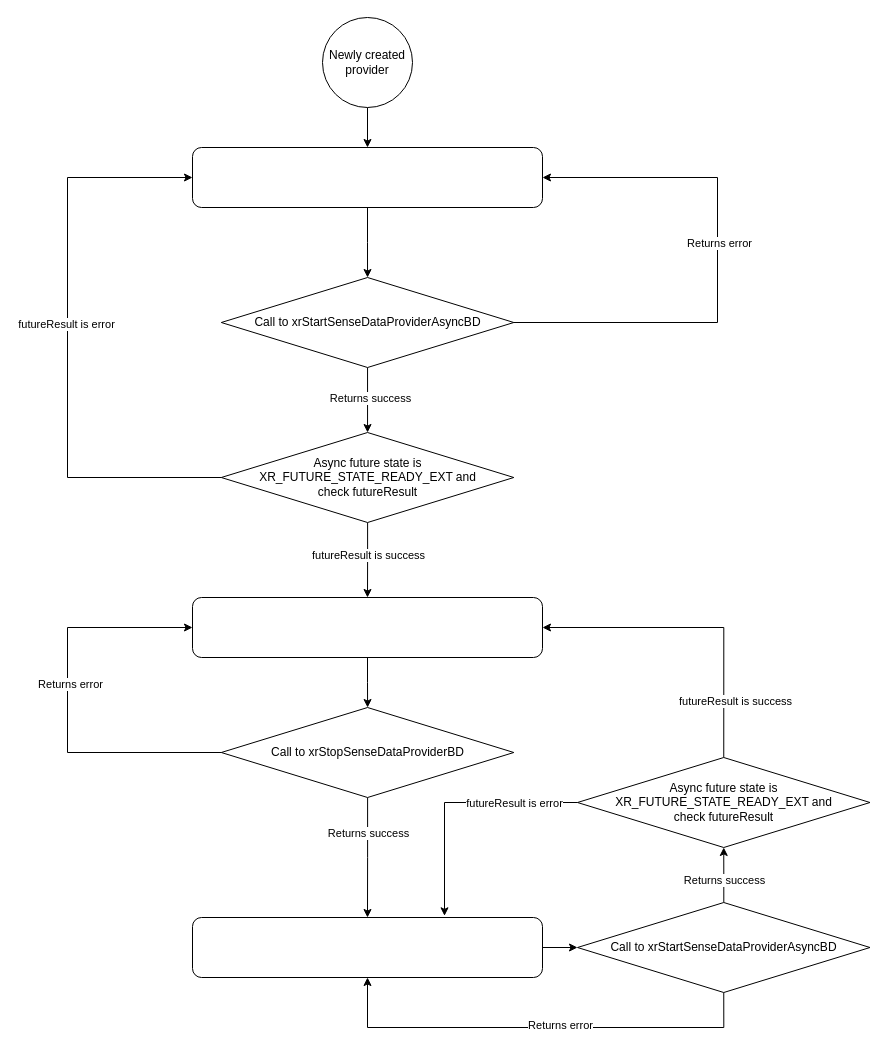
Image size: 887x1053. Some labels were removed from this diagram. The shapes that lost their labels are listed below. From the top down, each one's box as (x1, y1, x2, y2) in pixels, then its label:
(192, 146, 542, 208): XR_SENSE_DATA_PROVIDER_STATE_INITIALIZED_BD
(192, 596, 542, 658): XR_SENSE_DATA_PROVIDER_STATE_RUNNING_BD
(192, 916, 542, 978): XR_SENSE_DATA_PROVIDER_STATE_STOPPED_BD
